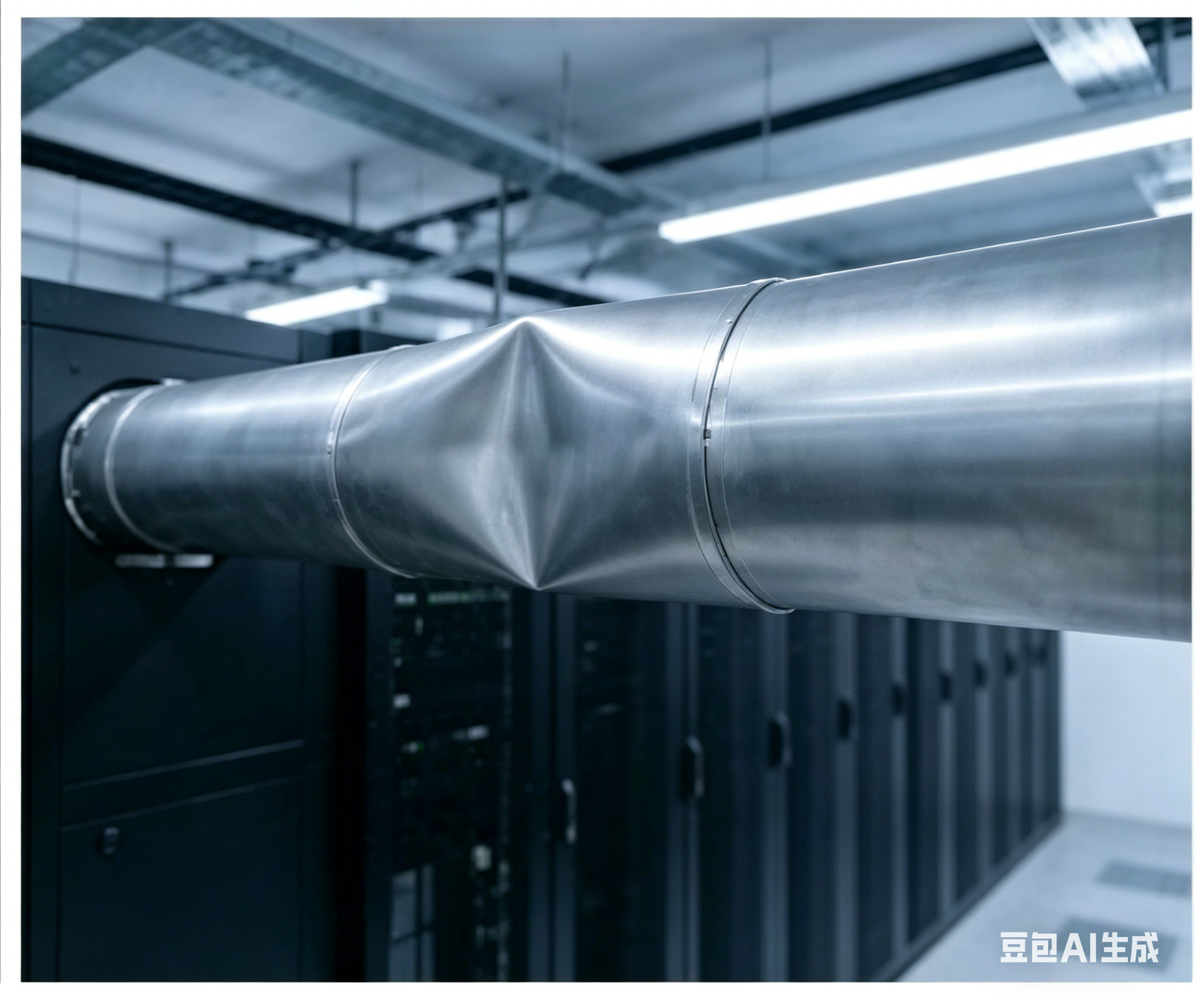Leakage: (424, 310, 643, 598)
